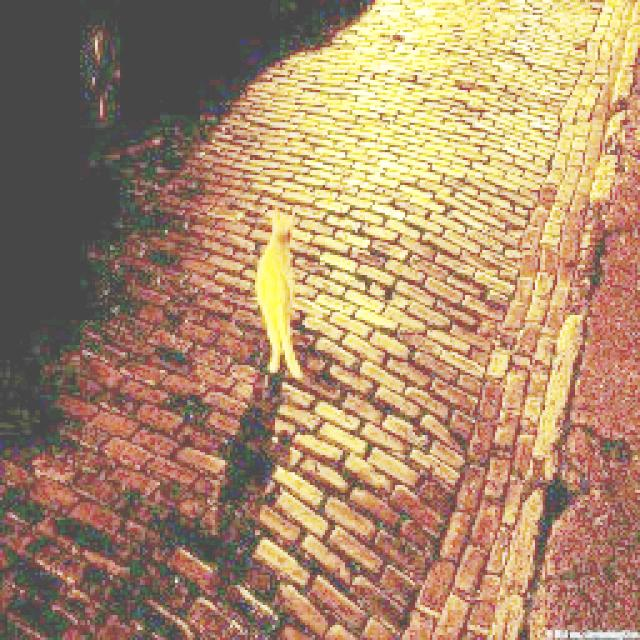cat: (257, 202, 309, 384)
